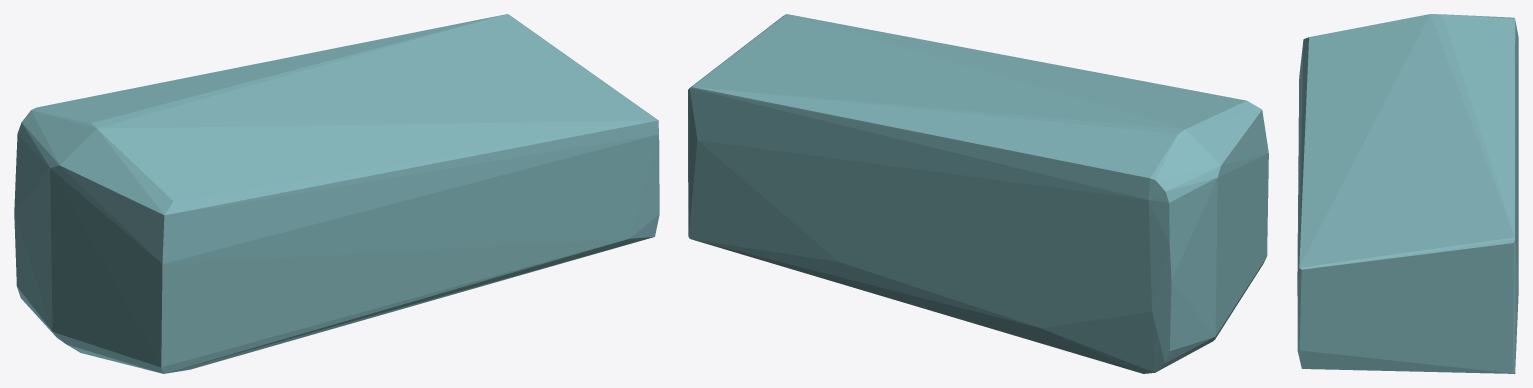
Rendered from misc_tape_dispenser_a01.glb.
3 renders of one model, left to right at view 1: azimuth 30°, elevation 25°; view 2: azimuth 150°, elevation 25°; view 3: azimuth 270°, elevation 25°, orthographic. The views are drawn at different scales.
Visible parts, largest first — view 1: geometry_0; view 2: geometry_0; view 3: geometry_0.
Part boxes in pixels (x1=…): geometry_0: x1=14, y1=14, x2=659, y2=373; geometry_0: x1=688, y1=14, x2=1268, y2=373; geometry_0: x1=1297, y1=14, x2=1518, y2=373.
Bounding box in the file's own units: 0.477 × 0.1904 × 0.1994.
